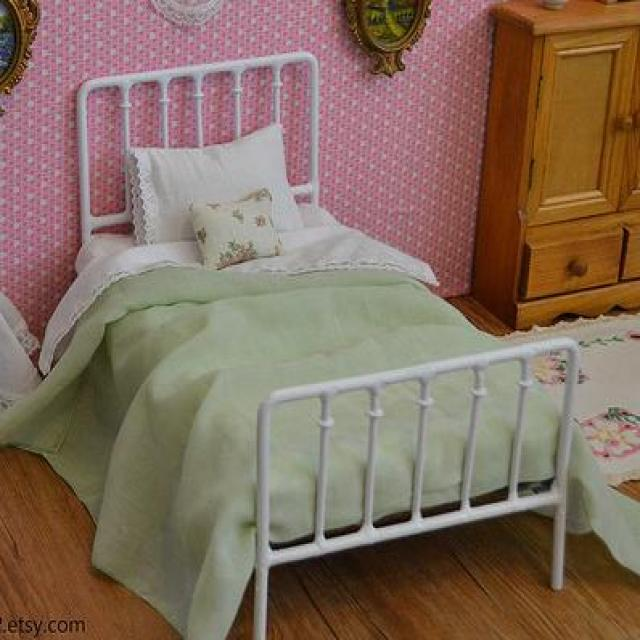bed: (69, 50, 588, 640)
